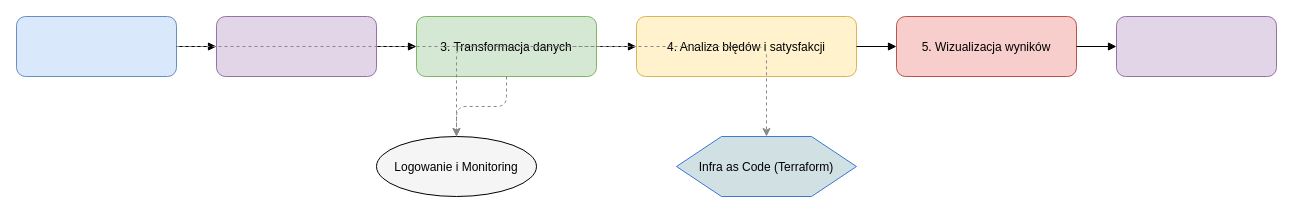
Image size: 1293x213. Some labels were removed from this diagram. The shapes that lost their labels are listed below. From the top down, each one's centre as x and y in pixels, then its label:
(96,46): 1. Zbiór danych
(296,46): 2. Walidacja danych
(1196,46): 6. Notyfikacje / JIRA
